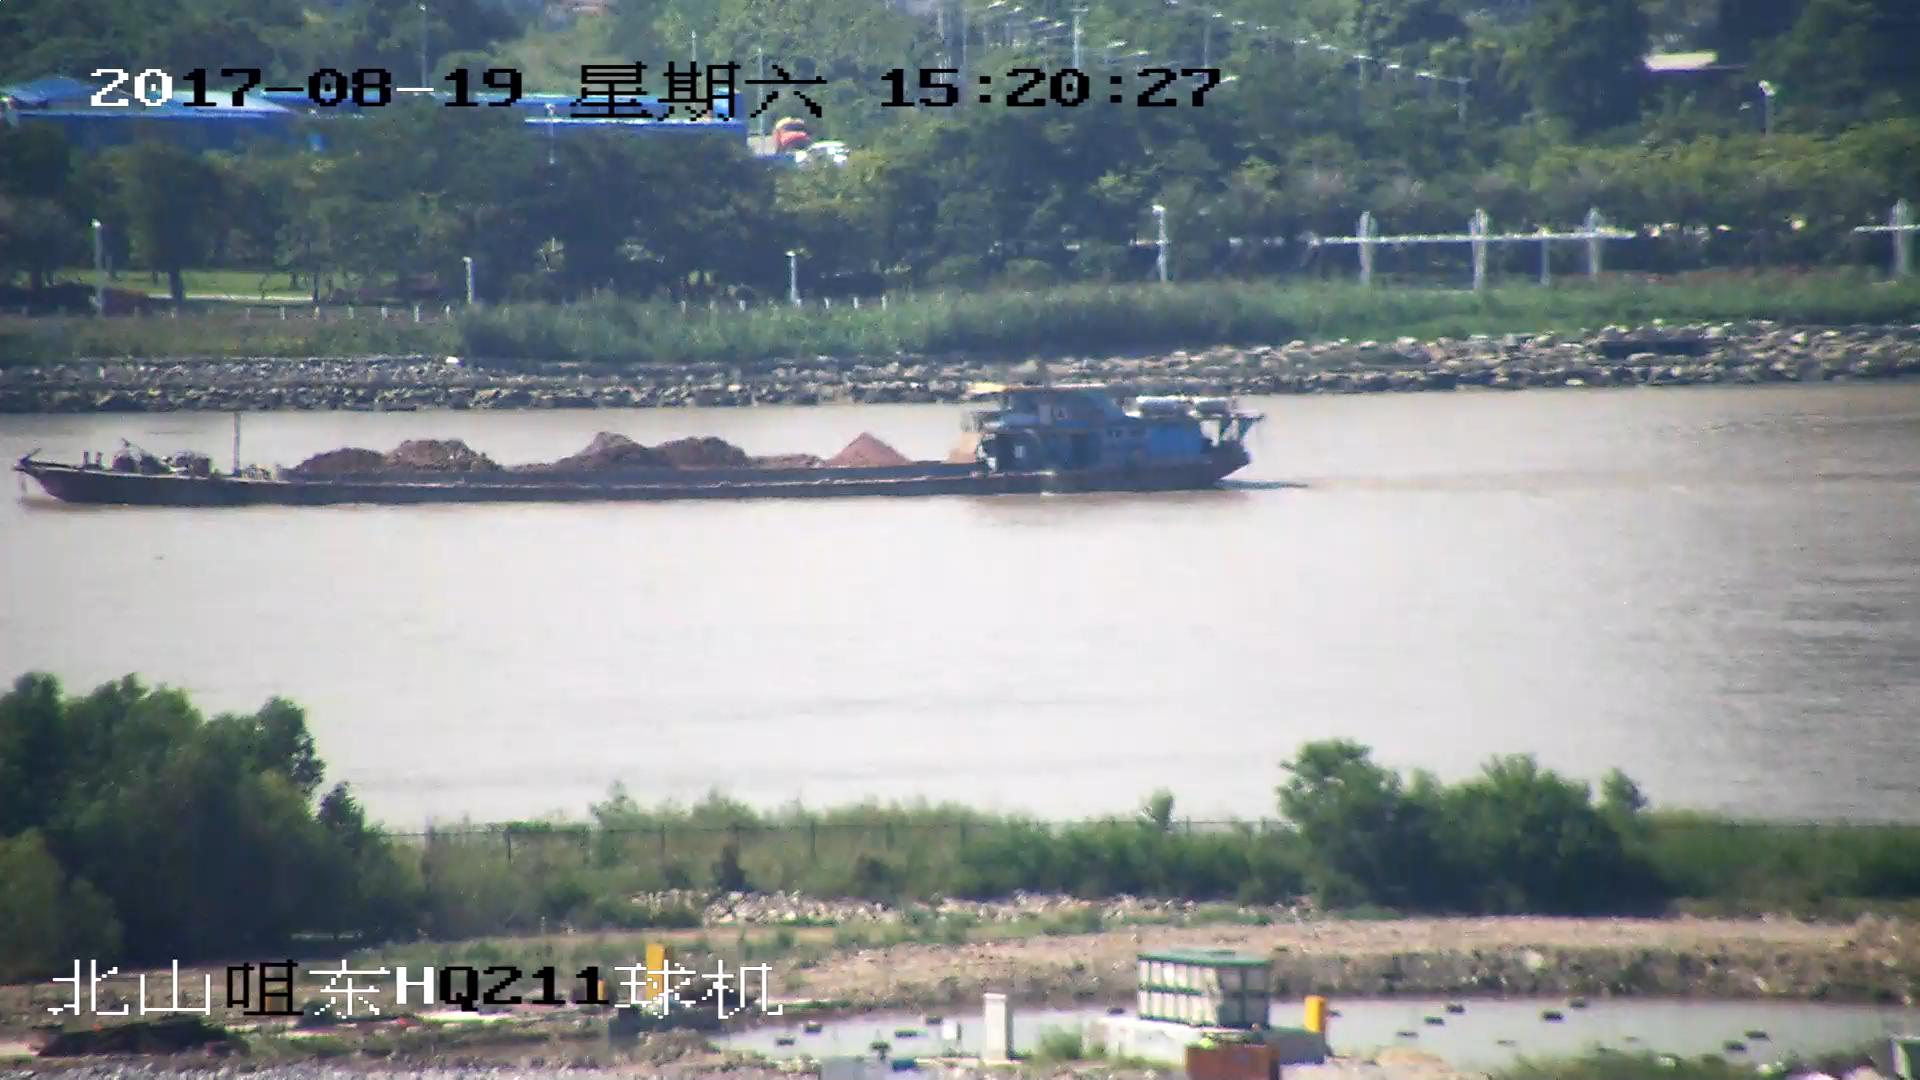ore carrier: (16, 380, 1260, 510)
